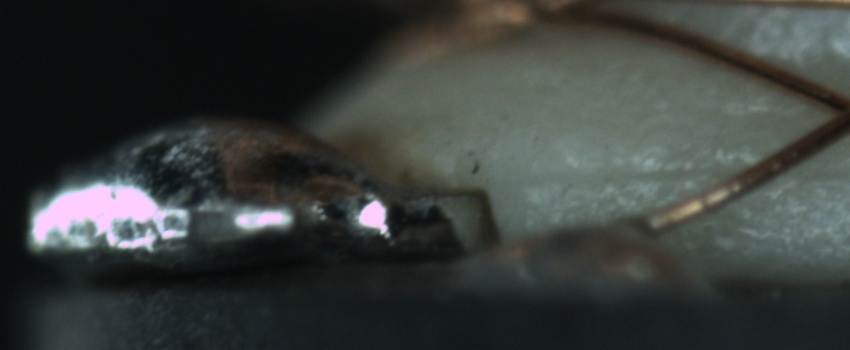CL: (802, 79, 850, 145)
DL: (550, 143, 850, 198)
